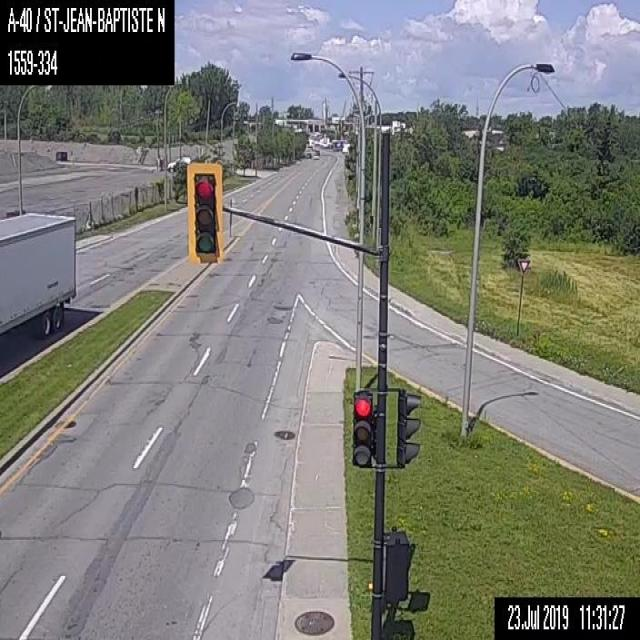vehicle: (0, 209, 76, 355), (166, 155, 191, 171)
